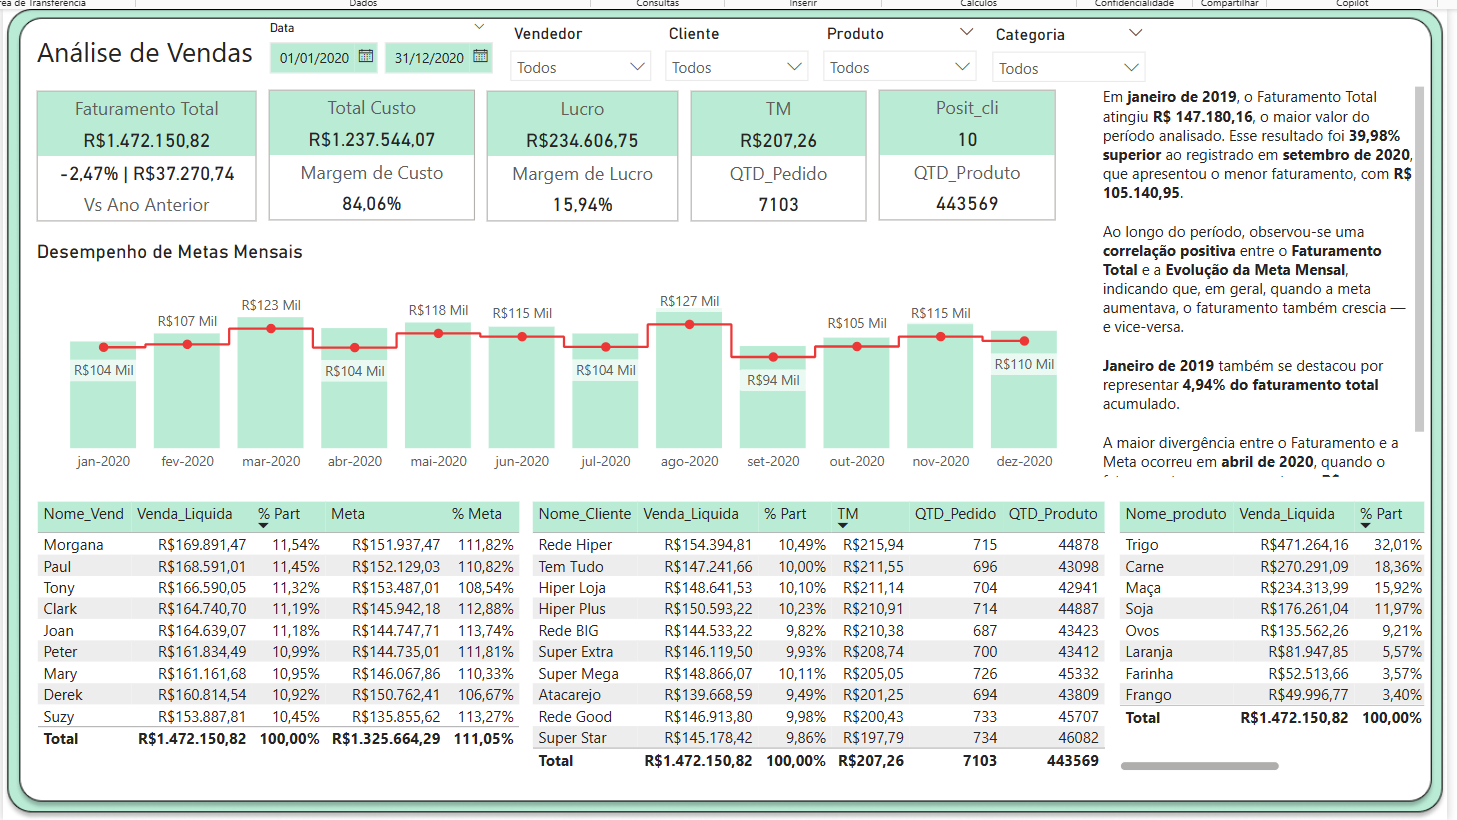

The dashboard page shown, as its layout file describes it:
{"tool":"powerbi","page":{"name":"Analise Vendas","canvas":[1280,720],"ordinal":0},"visuals":[{"type":"slicer","fields":{"Values":["Calendario.Date"]},"box":[223.4,5.3,216.4,63.8],"z":0},{"type":"tableEx","fields":{"Values":["D_Vendedor.Nome_Vend","_Medidas.Faturamento Total","Divide(_Medidas.Faturamento Total, ScopedEval(_Medidas.Faturamento Total, []))","_Medidas.Meta","_Medidas.% Meta"]},"box":[24.8,431.8,439.8,261.6],"z":1000},{"type":"lineClusteredColumnComboChart","title":"Desempenho de Metas Mensais","fields":{"Y":["_Medidas.Faturamento Total"],"Y2":["_Medidas.Evolucao_Mes_Anterior"],"Category":["Calendario.Ano-Mês"]},"box":[24.8,204.8,945.2,214.6],"z":2000},{"type":"cardVisual","fields":{"Data":["_Medidas.TM","Fato_venda.Qtde"]},"box":[604.7,67.4,166.7,126.8],"z":3000},{"type":"cardVisual","fields":{"Data":["_Medidas.Custo","_Medidas.Margem de Custo"]},"box":[230.5,66.5,193.3,126.8],"z":4000},{"type":"cardVisual","fields":{"Data":["_Medidas.Lucro","_Medidas.Margem de Lucro"]},"box":[423.8,67.4,180.9,126.8],"z":5000},{"type":"cardVisual","fields":{"Data":["_Medidas.Faturamento Total","_Medidas.KPI Kian"]},"box":[24.8,67.4,205.7,126.8],"z":6000},{"type":"textbox","box":[24.8,16,211.9,47.9],"z":7000},{"type":"tableEx","fields":{"Values":["D_Clientes.Nome_Cliente","_Medidas.Faturamento Total","Divide(_Medidas.Faturamento Total, ScopedEval(_Medidas.Faturamento Total, []))","_Medidas.TM","Fato_venda.Qtde","Fato_venda.Qtde"]},"box":[463.7,431.8,520.5,261.6],"z":8000},{"type":"cardVisual","fields":{"Data":["_Medidas.Posit_cli","Fato_venda.Qtde"]},"box":[771.4,66.5,167.6,126.8],"z":9000},{"type":"tableEx","fields":{"Values":["D_Produto.Nome_produto","_Medidas.Faturamento Total","Divide(_Medidas.Faturamento Total, ScopedEval(_Medidas.Faturamento Total, []))","_Medidas.TM","Fato_venda.Qtde","Fato_venda.Qtde"]},"box":[984.2,431.8,281.1,249.2],"z":10000},{"type":"textbox","box":[970,63.8,295.3,355.6],"z":10001},{"type":"slicer","fields":{"Values":["D_Vendedor.Nome_Vend"]},"box":[439.8,8.9,145.4,55],"z":10002},{"type":"slicer","fields":{"Values":["D_Clientes.Nome_Cliente"]},"box":[577.2,8.9,147.2,55],"z":10003},{"type":"slicer","fields":{"Values":["D_Produto.Nome_produto"]},"box":[717.3,8.9,156.1,55],"z":10004},{"type":"slicer","fields":{"Values":["D_categoria.Nome_Categoria"]},"box":[867.2,9.8,156.1,55],"z":10005}]}

Visuals, with their boxes on the page's 1280x720 design canvas (x1, y1, x2, y2). These are canvas units, not pixel positions in the 1457x820 screenshot, which may show the page scaled, cropped or inside an application window:
slicer - Calendario.Date: rect(223, 5, 440, 69)
tableEx - D_Vendedor.Nome_Vend x _Medidas.Faturamento Total: rect(25, 432, 465, 693)
"Desempenho de Metas Mensais" lineClusteredColumnComboChart: rect(25, 205, 970, 419)
cardVisual - _Medidas.TM x Fato_venda.Qtde: rect(605, 67, 771, 194)
cardVisual - _Medidas.Custo x _Medidas.Margem de Custo: rect(230, 66, 424, 193)
cardVisual - _Medidas.Lucro x _Medidas.Margem de Lucro: rect(424, 67, 605, 194)
cardVisual - _Medidas.Faturamento Total x _Medidas.KPI Kian: rect(25, 67, 230, 194)
textbox: rect(25, 16, 237, 64)
tableEx - D_Clientes.Nome_Cliente x _Medidas.Faturamento Total: rect(464, 432, 984, 693)
cardVisual - _Medidas.Posit_cli x Fato_venda.Qtde: rect(771, 66, 939, 193)
tableEx - D_Produto.Nome_produto x _Medidas.Faturamento Total: rect(984, 432, 1265, 681)
textbox: rect(970, 64, 1265, 419)
slicer - D_Vendedor.Nome_Vend: rect(440, 9, 585, 64)
slicer - D_Clientes.Nome_Cliente: rect(577, 9, 724, 64)
slicer - D_Produto.Nome_produto: rect(717, 9, 873, 64)
slicer - D_categoria.Nome_Categoria: rect(867, 10, 1023, 65)
